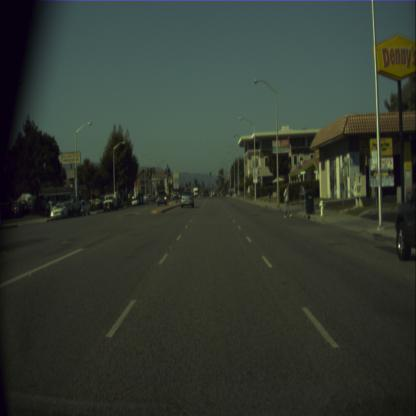Green: (226, 180, 228, 184), (209, 172, 210, 176)
off: (208, 182, 210, 185), (212, 182, 213, 186)
